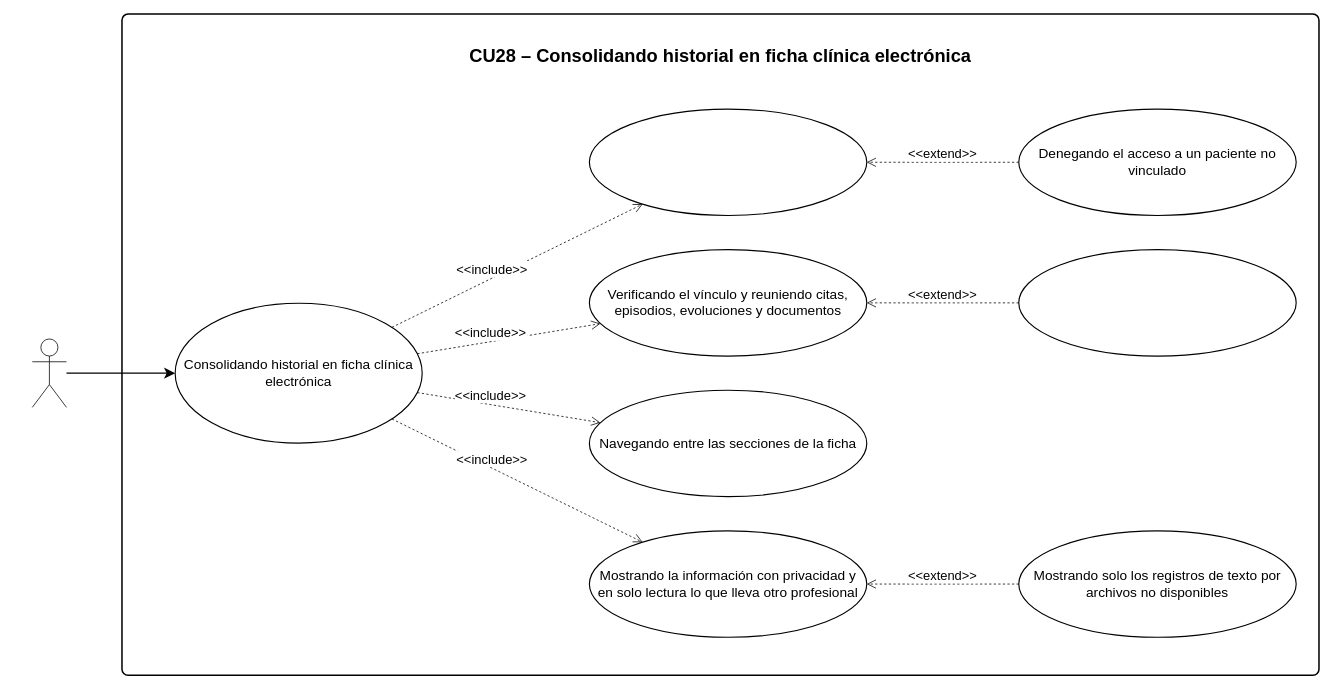
The diagram is 1333 pixels wide and 689 high, and some of its shapes have lost their labels. Here are the shapes that lost their labels. From the top down, the centre of each, then its label:
the point at 727,162: Abriendo la ficha desde la nómina, la jornada o las derivaciones recibidas
the point at 1157,302: Ofreciendo reintentar por pérdida de conexión con la base de datos
the point at 49,372: Profesional
